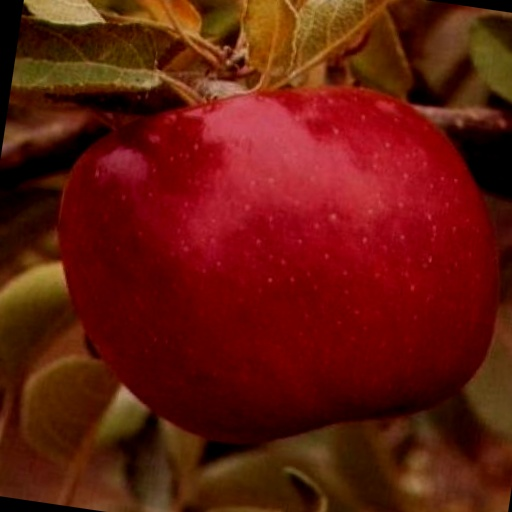fruit: (60, 88, 497, 441)
